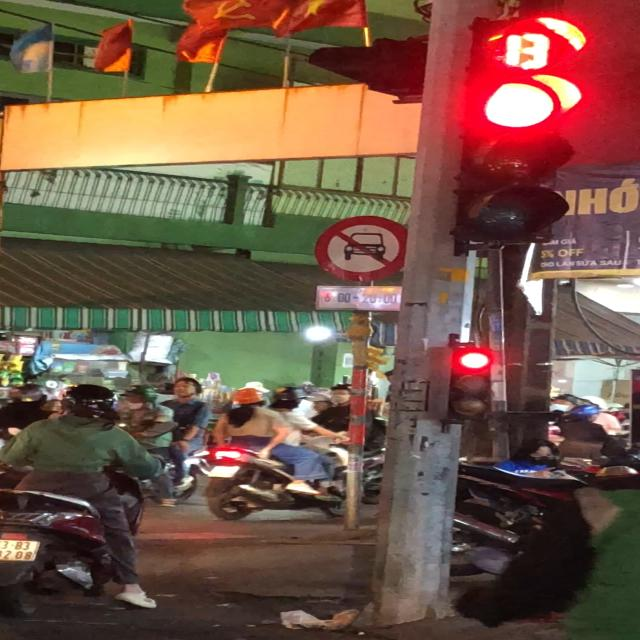Bien bao cam xe oto: (314, 214, 412, 286)
